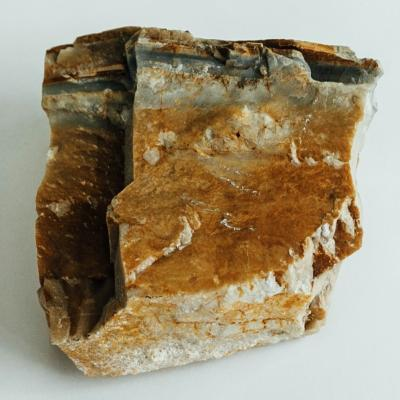mineralogy: (36, 27, 382, 376)
